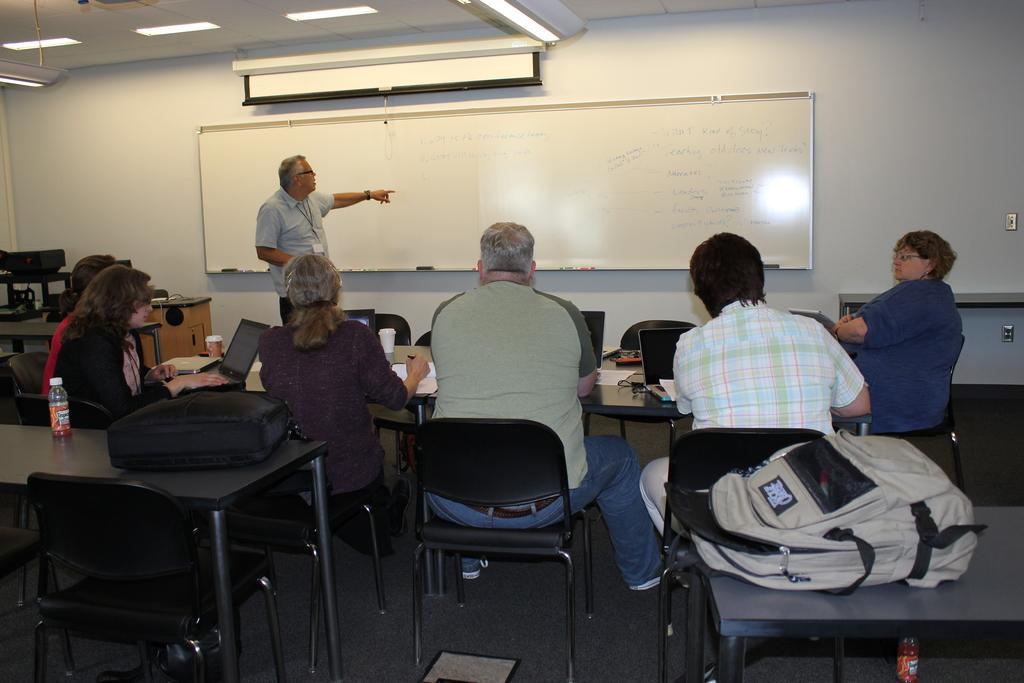Luggage-and-bags: (671, 446, 970, 637), (106, 382, 311, 472)
